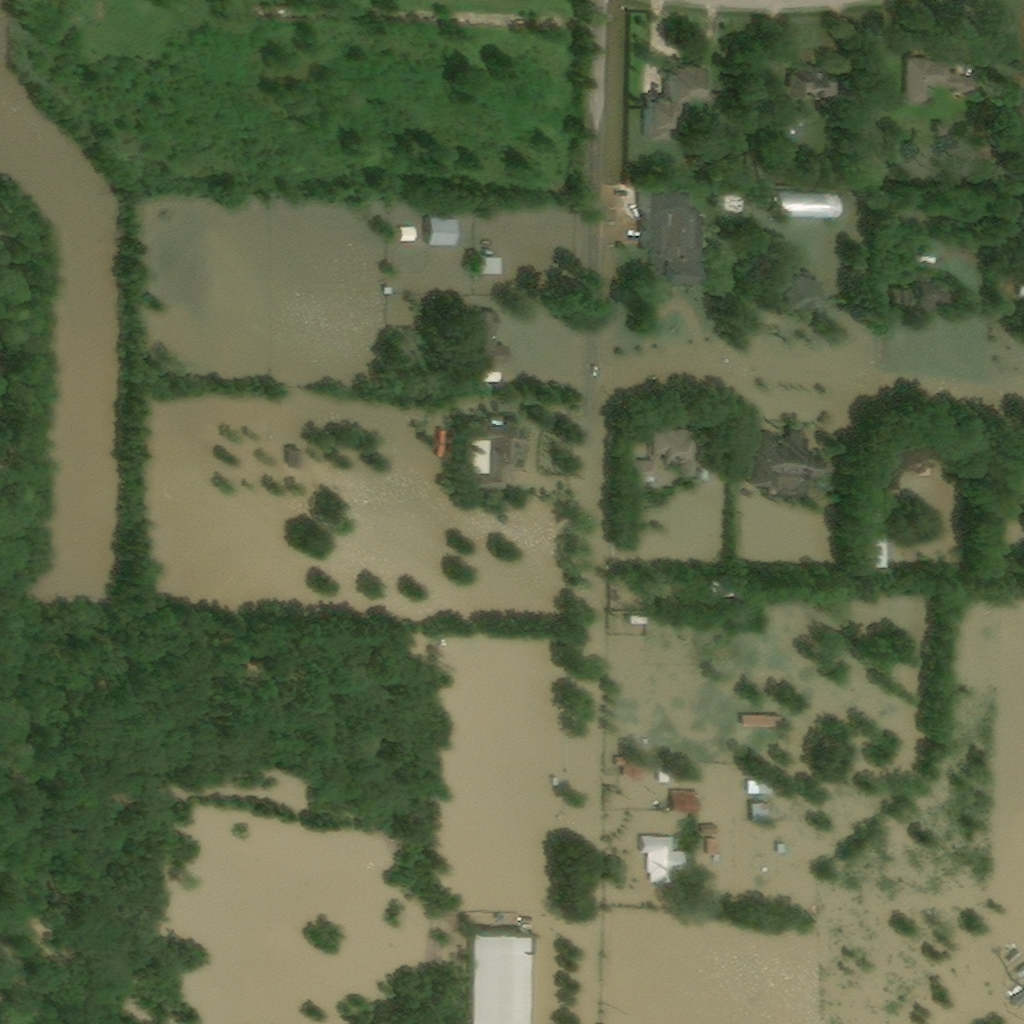major_damage: (468, 924, 528, 1023), (750, 427, 828, 502), (469, 416, 523, 491), (632, 429, 699, 487), (876, 436, 932, 501), (892, 256, 937, 320), (763, 263, 819, 314), (471, 307, 511, 370), (640, 837, 683, 888), (852, 504, 883, 570), (776, 194, 841, 222), (617, 758, 656, 785), (427, 218, 457, 251), (670, 792, 701, 817), (716, 187, 741, 216), (939, 280, 958, 313), (478, 252, 502, 276), (742, 718, 783, 732), (751, 804, 774, 826), (289, 448, 303, 475), (1012, 458, 1022, 493), (749, 783, 772, 797), (439, 432, 450, 461), (750, 192, 764, 213), (401, 230, 419, 246), (483, 374, 502, 388), (658, 768, 671, 788), (629, 617, 649, 630), (701, 828, 720, 837), (708, 840, 717, 858), (778, 847, 788, 857), (555, 776, 562, 787), (386, 290, 393, 299)
minor_damage: (625, 184, 697, 287), (767, 64, 834, 123), (905, 57, 973, 108), (1011, 90, 1022, 112), (978, 142, 990, 158)
no_damage: (643, 55, 708, 146)
